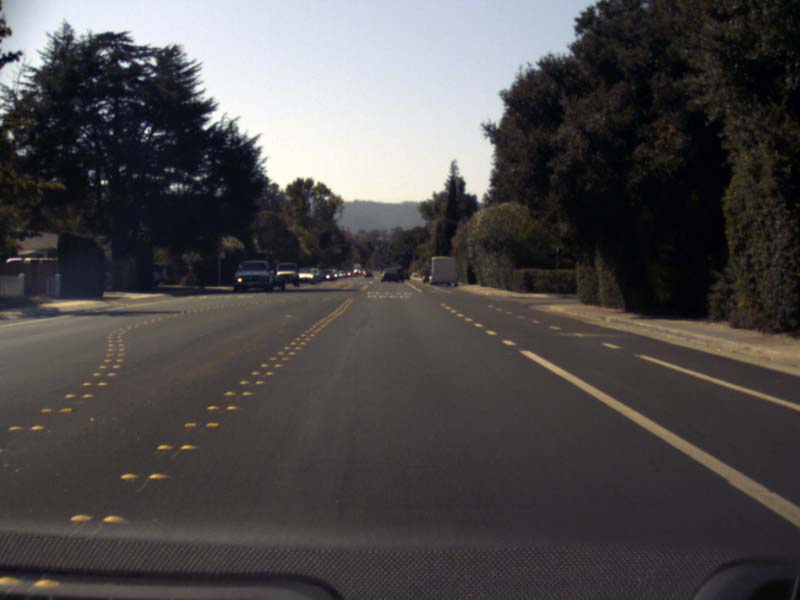Green: (388, 245, 392, 252)
